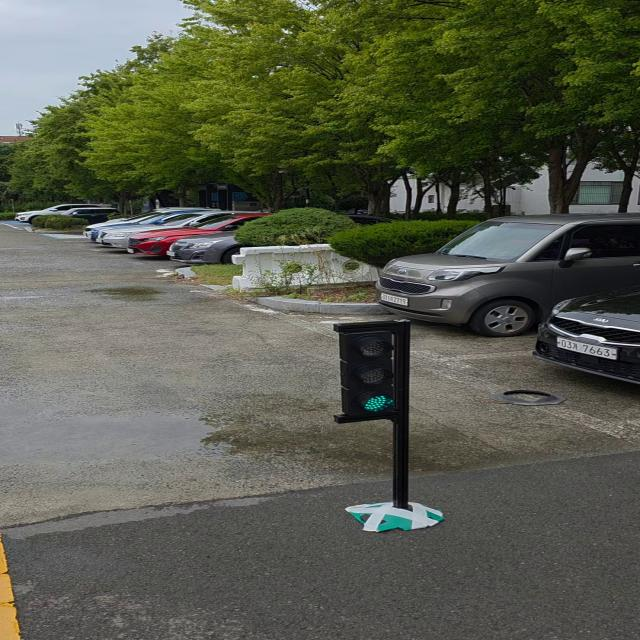green: (341, 325, 413, 419)
